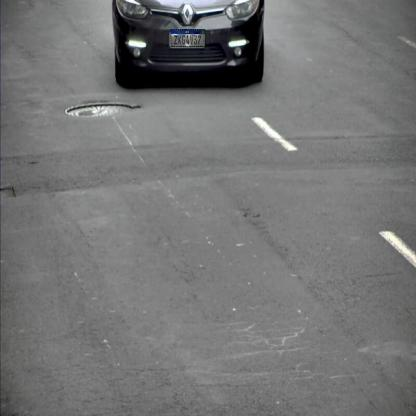PlacaM: (170, 29, 206, 47)
